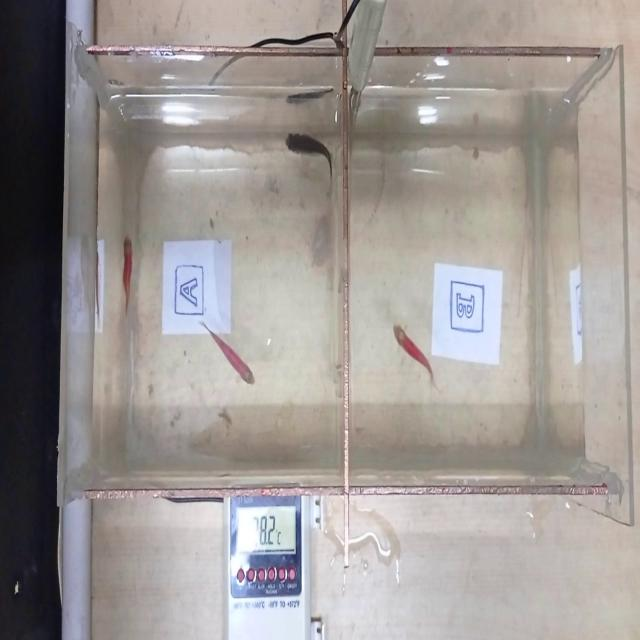Fish A1: (280, 124, 342, 214)
Fish A2: (114, 233, 144, 329)
Fish A3: (198, 309, 264, 399)
Fish B: (388, 306, 441, 404)
